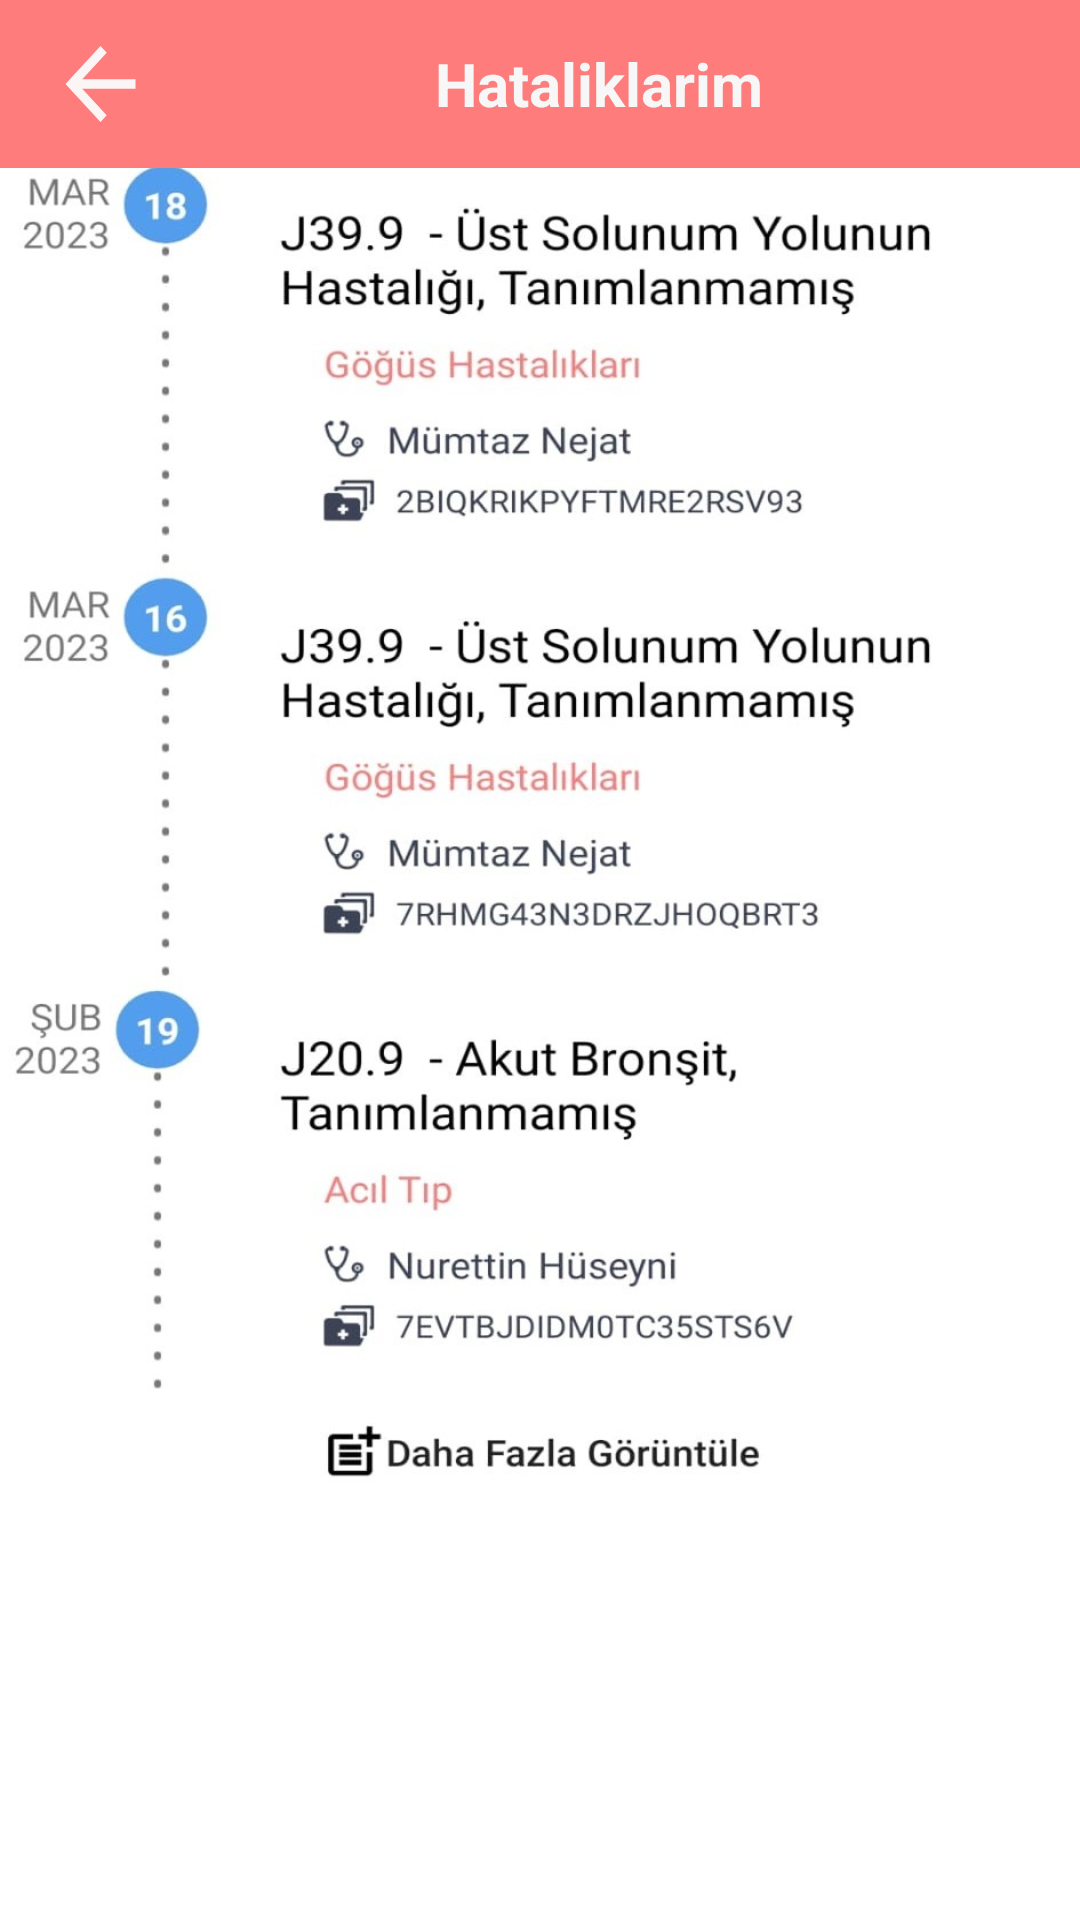

Named icons in this screenshot (1080 x 1920) and their centers, [x,y]:
arrow back: [101,84]
